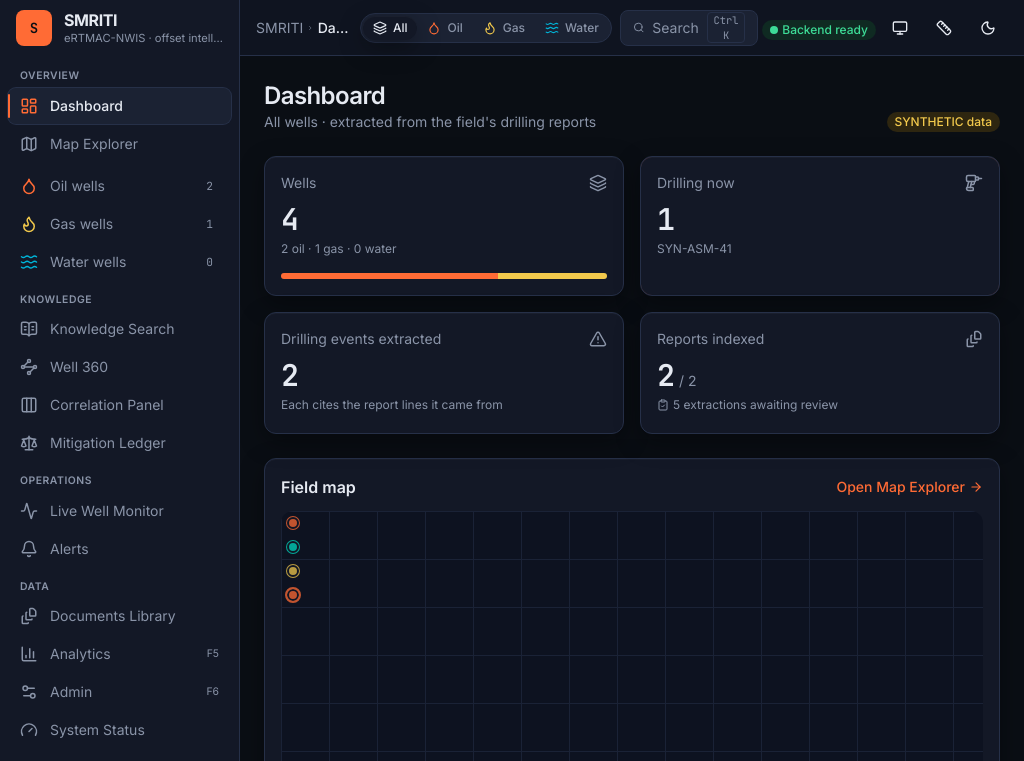
Test: Dashboard › follows the global well-type switcher
The width and height of the screenshot is (1024, 761).
Click the radio button labelled "Gas".
click(504, 28)  # box x1=473 y1=16 x2=535 y2=40
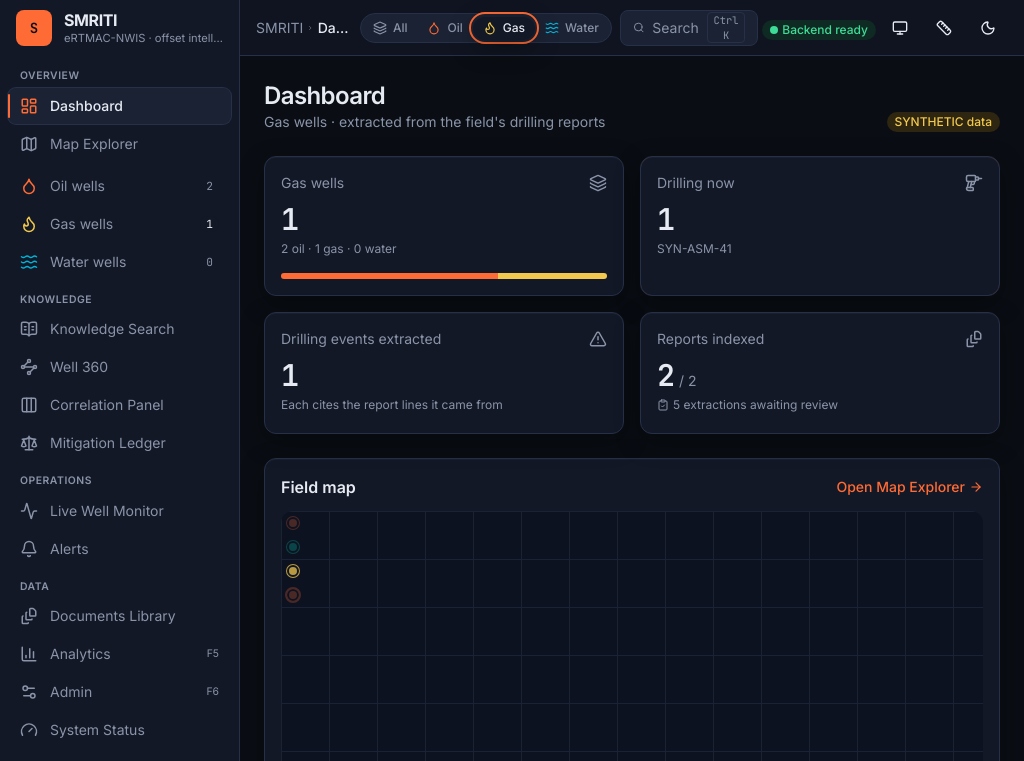
Now the element with test id "kpi-wells" shows "Gas wells", box x1=281 y1=174 x2=344 y2=191
